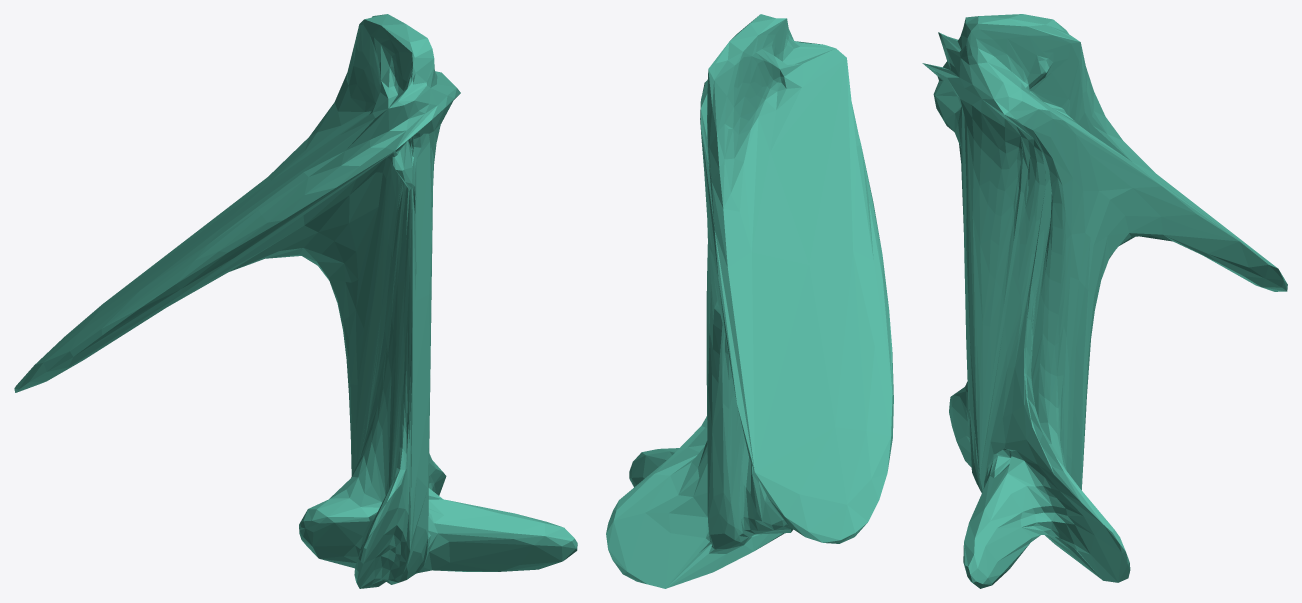
3 views of the same model, side by side, from view 1: azimuth 30°, elevation 25°; view 2: azimuth 150°, elevation 25°; view 3: azimuth 270°, elevation 25° (orthographic). The views are drawn at different scales.
Parts seen in each view (by area): view 1: 469_Cube.1902; view 2: 469_Cube.1902; view 3: 469_Cube.1902.
Part boxes in pixels (x1,y1,x2,y2): 469_Cube.1902: [14, 14, 577, 588]; 469_Cube.1902: [606, 14, 893, 588]; 469_Cube.1902: [922, 14, 1287, 588].
Bounding box in the file's own units: 9.22 × 12.79 × 7.83.
